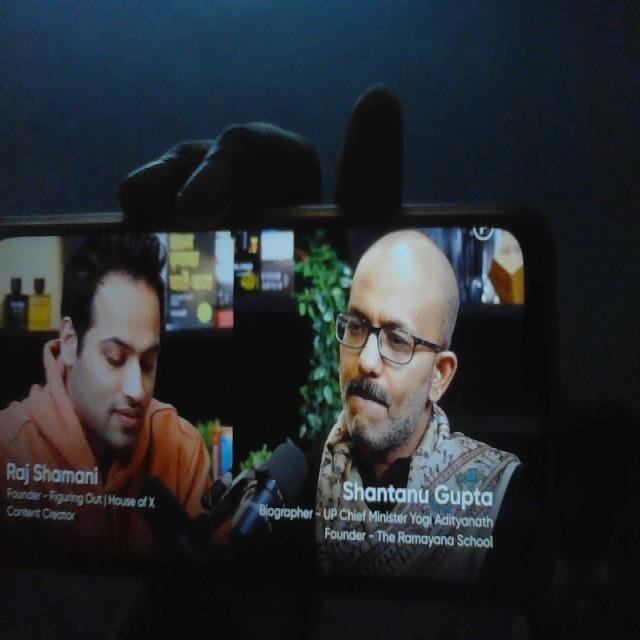fake: (52, 228, 170, 452)
